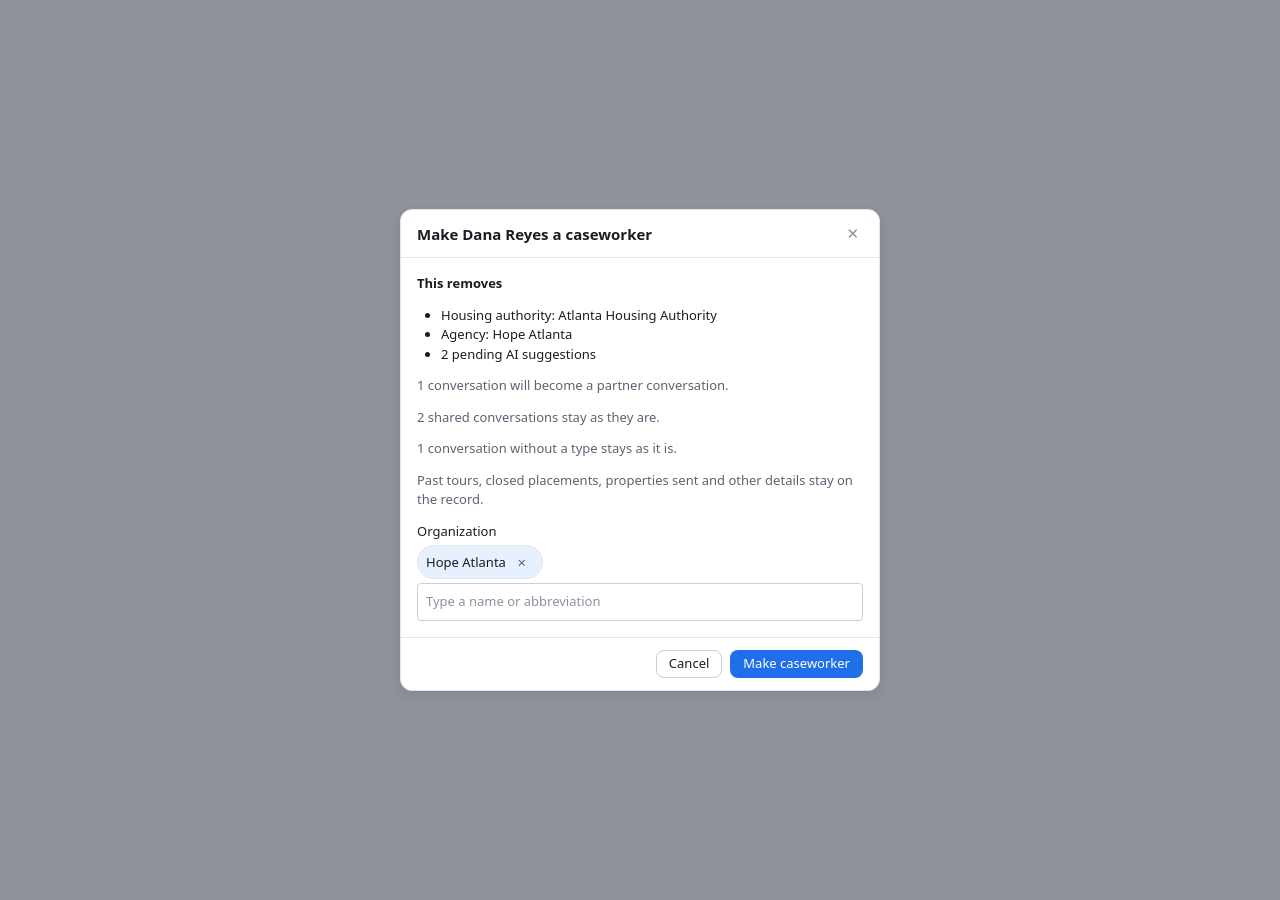
CaseworkerDialog › any other failure gets the generic line and Confirm again
Expected: the text "Past tours, closed placements, properties sent and other details stay on the record." is shown, [417,471,853,508]
Click the button "Make caseworker" at (797, 664), box [730,650,863,678]
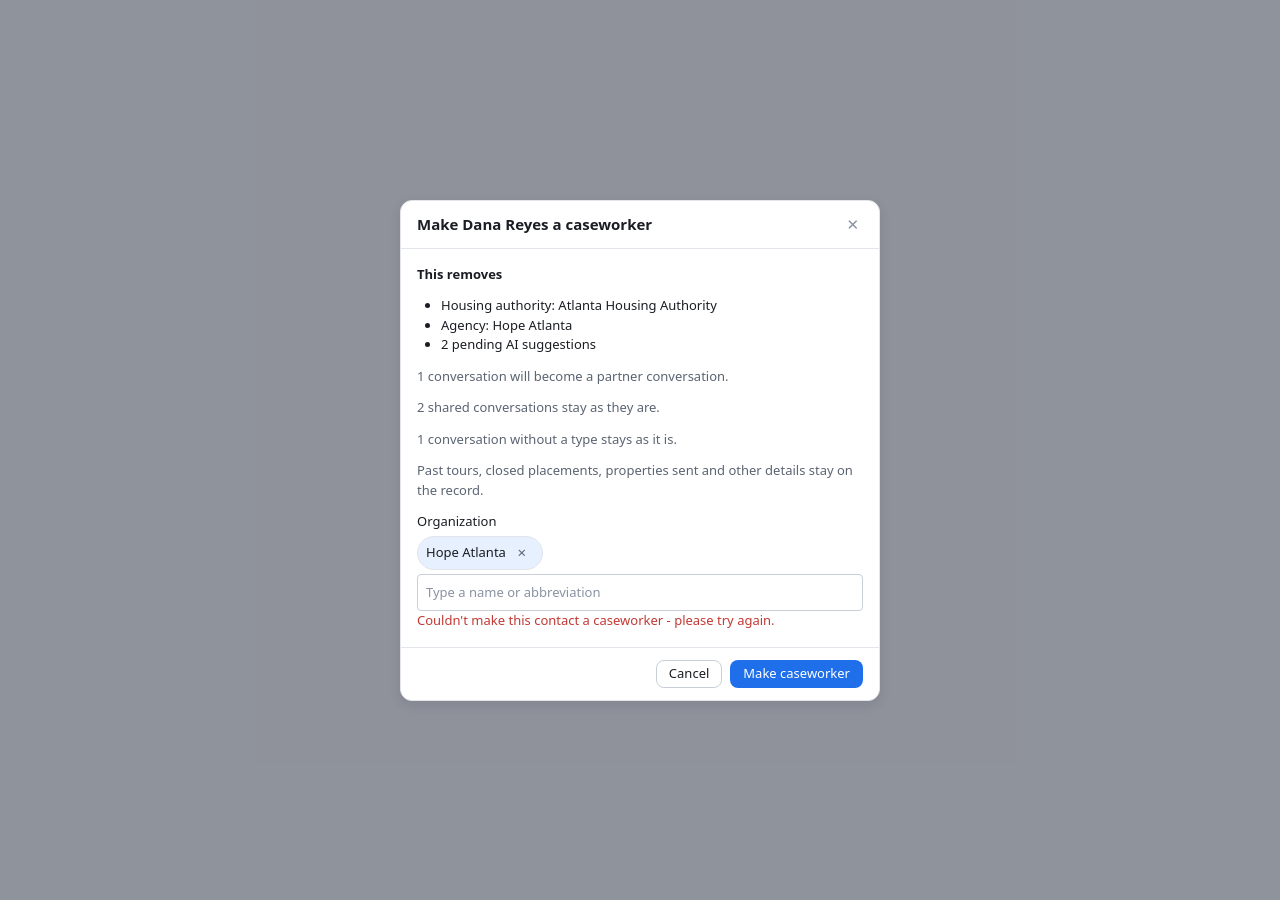
Expected: the button "Make caseworker" is enabled, [730,660,863,688]
Result: the message reads "Couldn't make this contact a caseworker - please try again." at [417,611,775,629]
